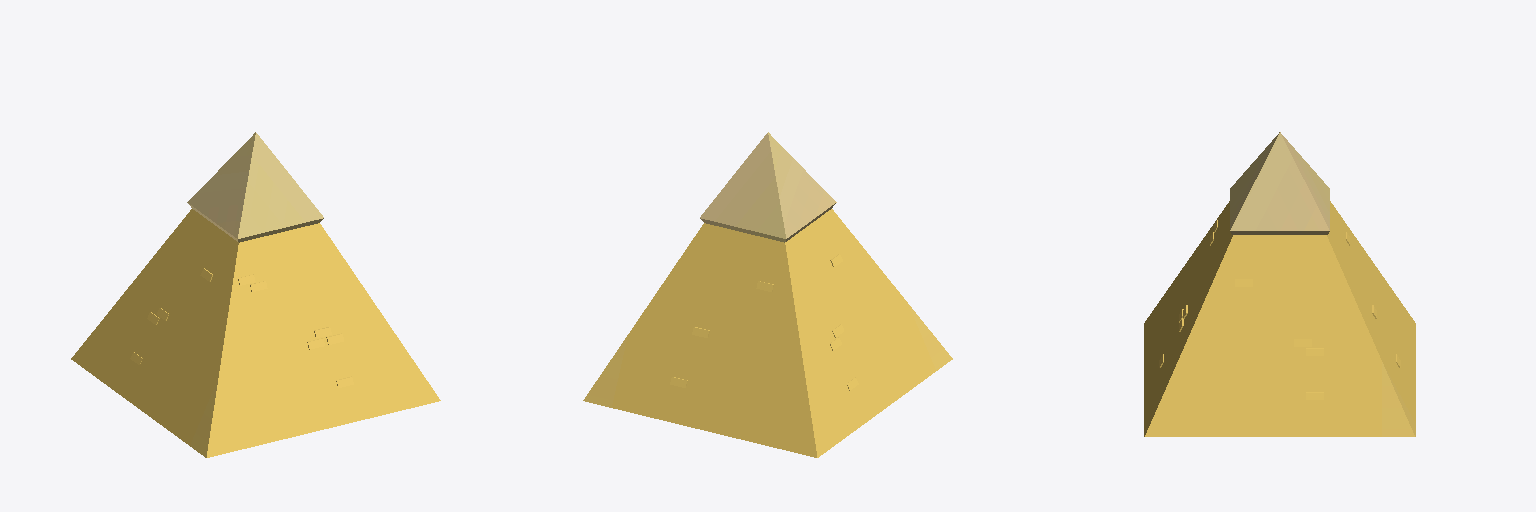
The picture shows the model from 3 angles: view 1: azimuth 30°, elevation 25°; view 2: azimuth 150°, elevation 25°; view 3: azimuth 270°, elevation 25°; orthographic projection.
Visible parts, largest first — view 1: Cube.002_Cube.010; view 2: Cube.002_Cube.010; view 3: Cube.002_Cube.010.
Boxes of the visible parts, box(x1,y1,x2,y2) form: Cube.002_Cube.010: box(71, 132, 440, 457); Cube.002_Cube.010: box(583, 132, 952, 457); Cube.002_Cube.010: box(1144, 132, 1415, 436).
Size of the model in its own units: 14.8 by 14.95 by 14.8.
Materials: 1 (1 with a texture image).